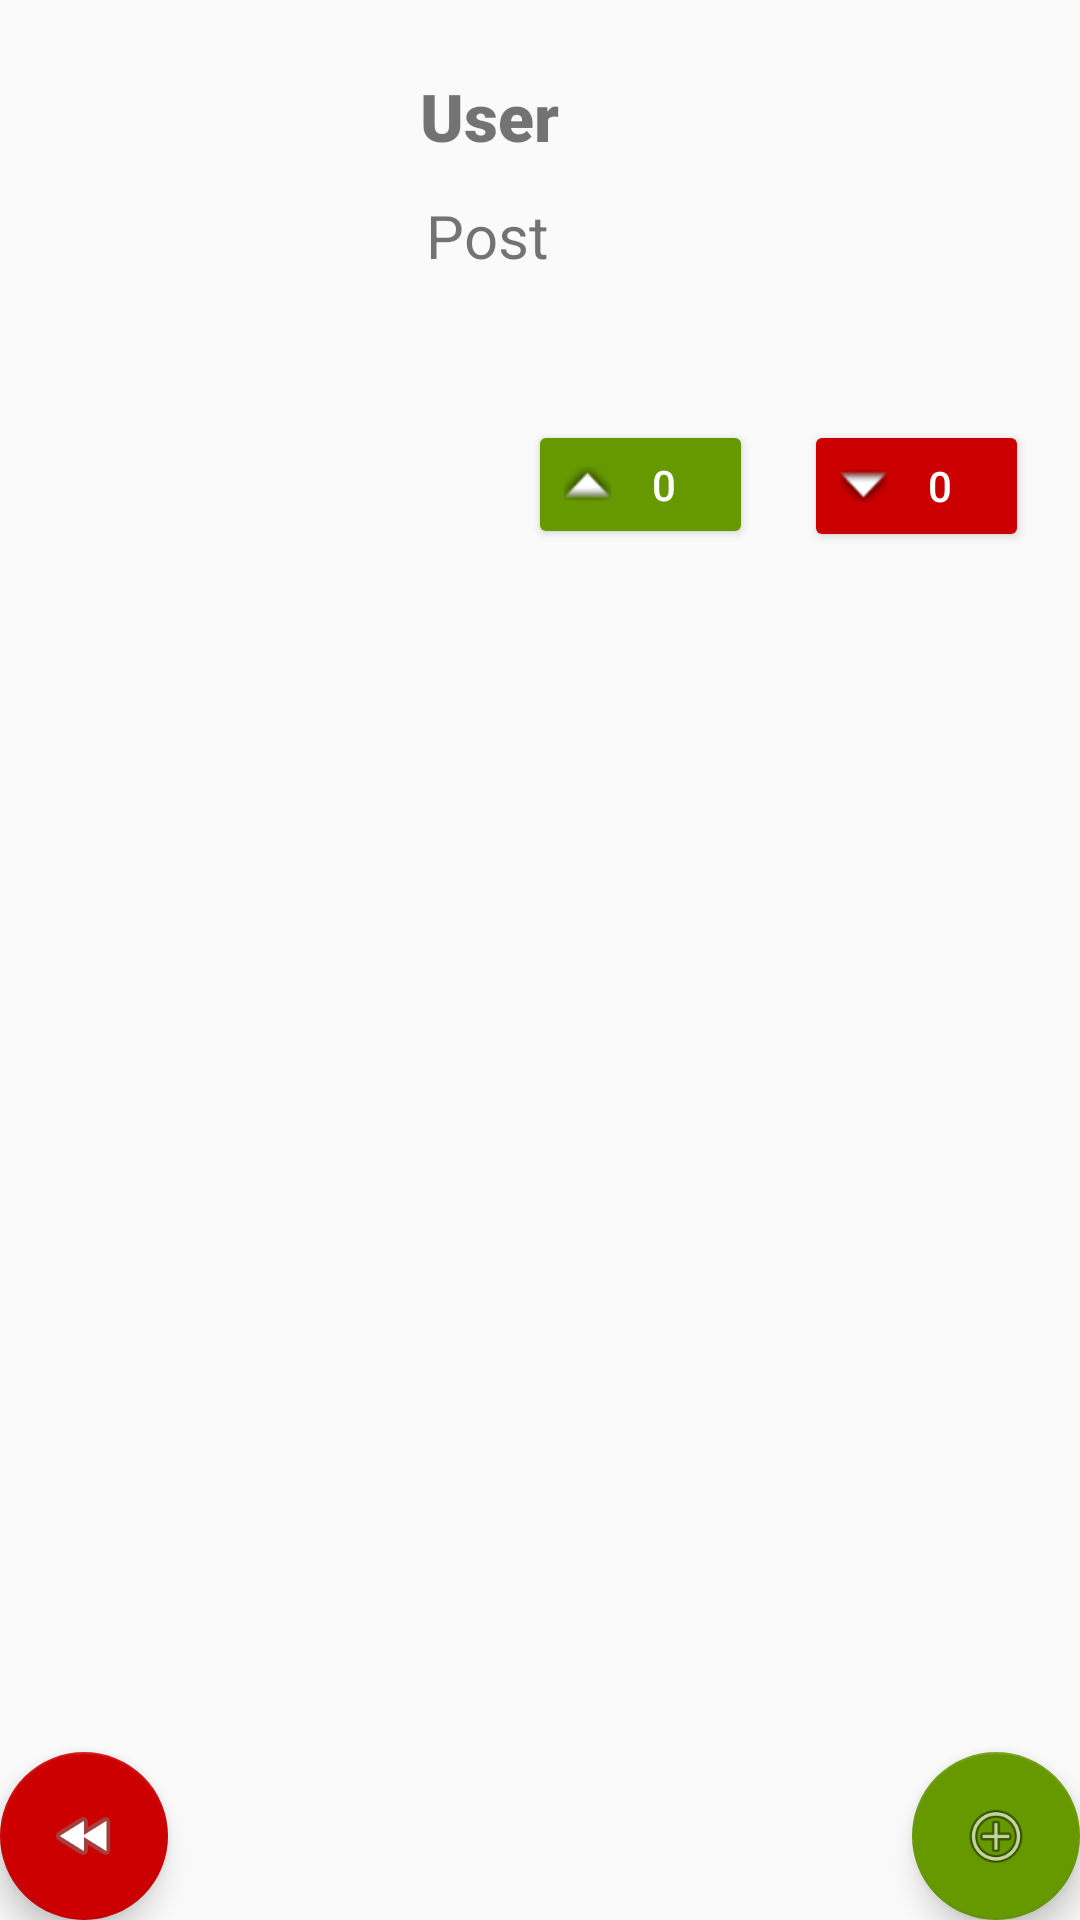

Point at icon controls on the screen. Image size 1080px x 1920px, points as point (x, y).
add: point (996, 1836)
rew: point (84, 1836)
